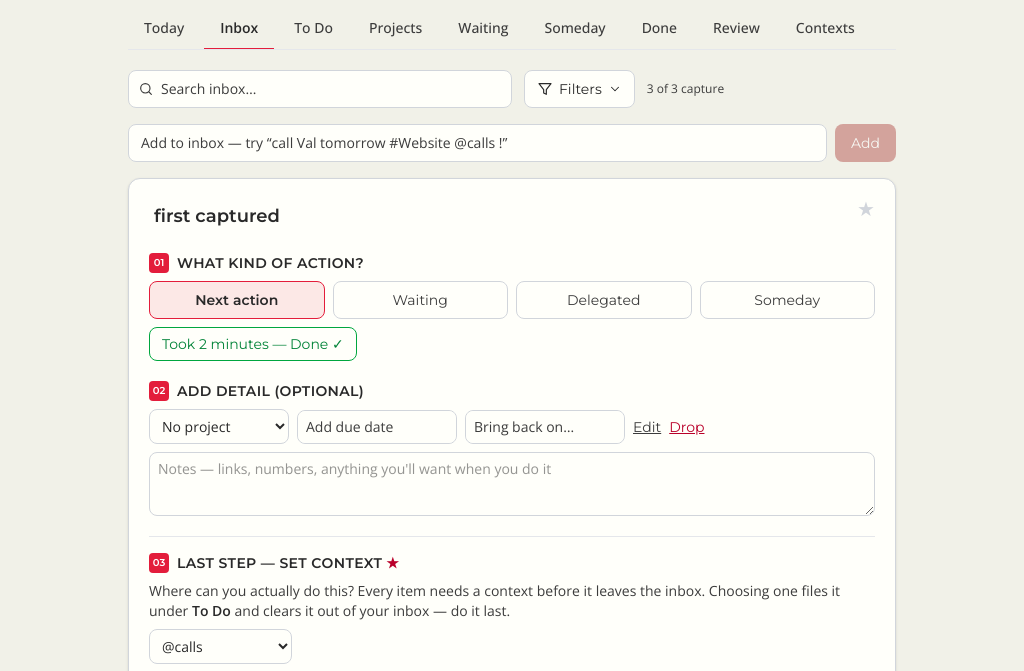
Test: InboxPage — the undo block sits inline (#265) › shows ONE undo block after a filing, in the page flow between the card and the queue
Select "@calls" in the dropdown named "Set context and file this todo" at (220, 646), box [149, 629, 292, 664]
(page scrolled)
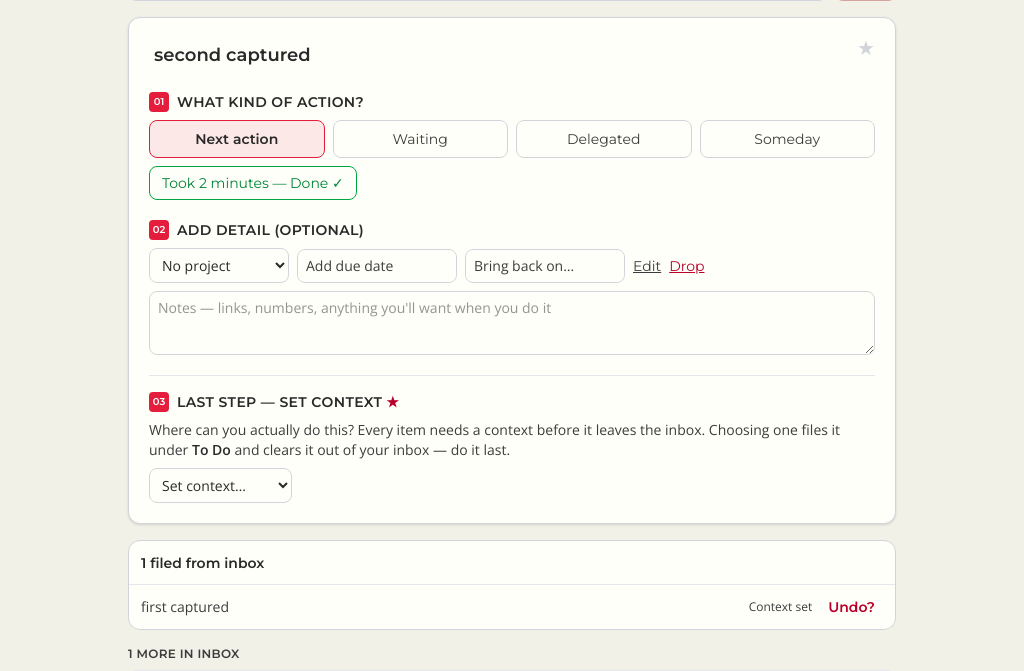
Expected: the message named "Recent changes you can undo" shows "first captured", [141, 597, 229, 616]
Expected: the button with aria-label "Undo filing “first captured”" is enabled, [820, 593, 883, 621]
